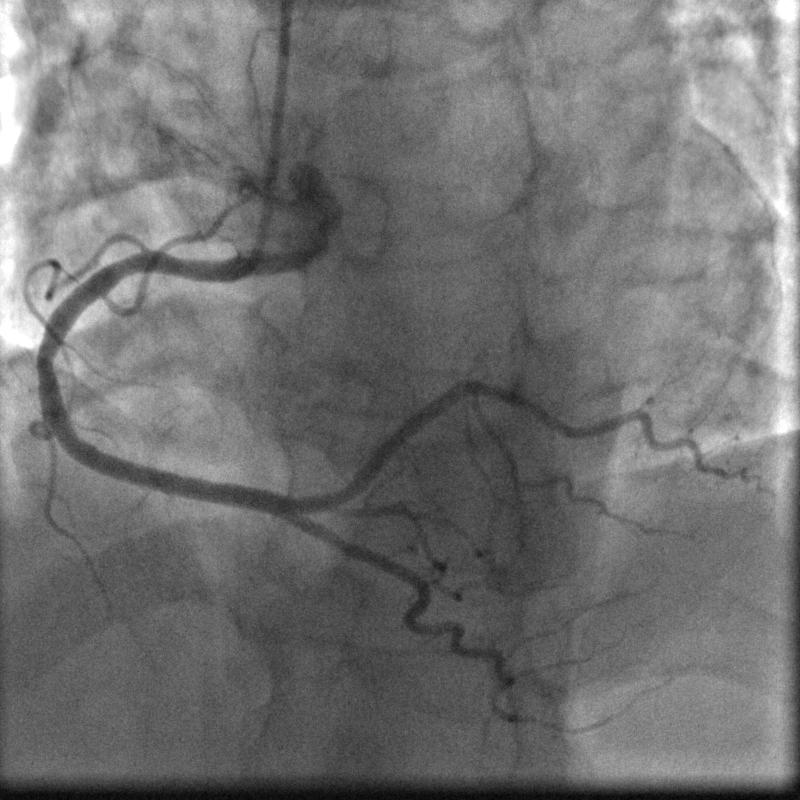Stenosis: (32, 327, 64, 384)
